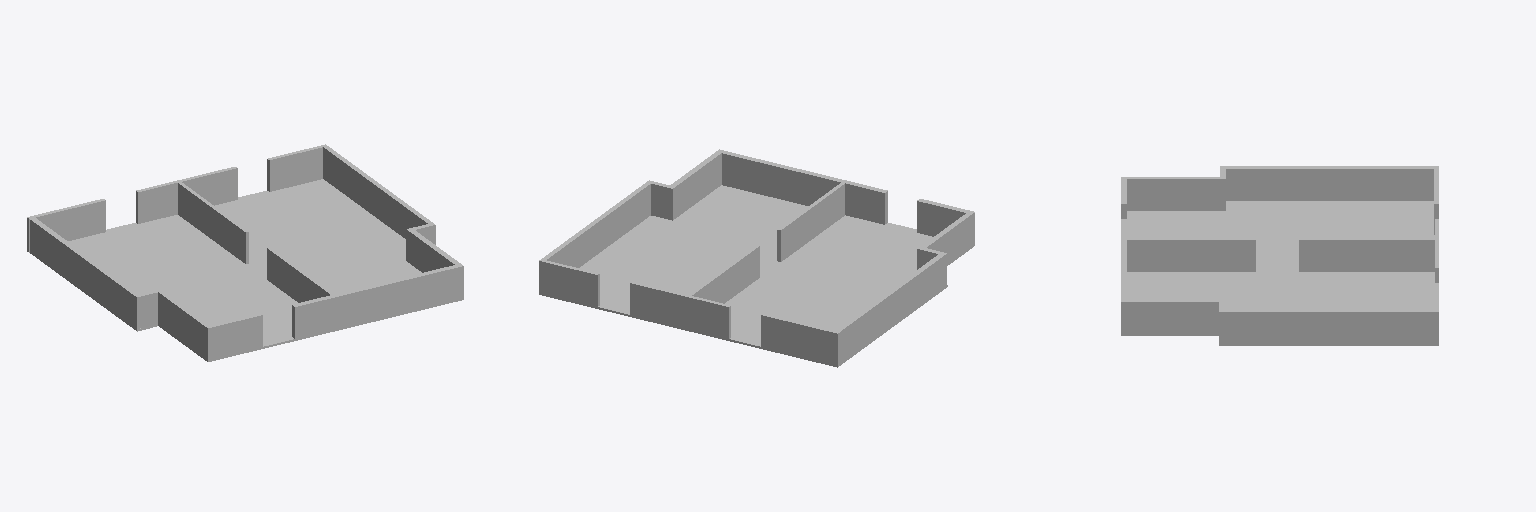
Rendered from building.obj.
The picture shows the model from 3 angles: view 1: azimuth 30°, elevation 25°; view 2: azimuth 150°, elevation 25°; view 3: azimuth 270°, elevation 25°; orthographic projection.
Visible parts, largest first — view 1: storage_v1; view 2: storage_v1; view 3: storage_v1.
Boxes of the visible parts, x1=… form: storage_v1: x1=27, y1=144, x2=463, y2=361; storage_v1: x1=539, y1=149, x2=974, y2=367; storage_v1: x1=1121, y1=166, x2=1438, y2=345.
Size of the model in its own units: 14.74 by 1.6 by 13.6.